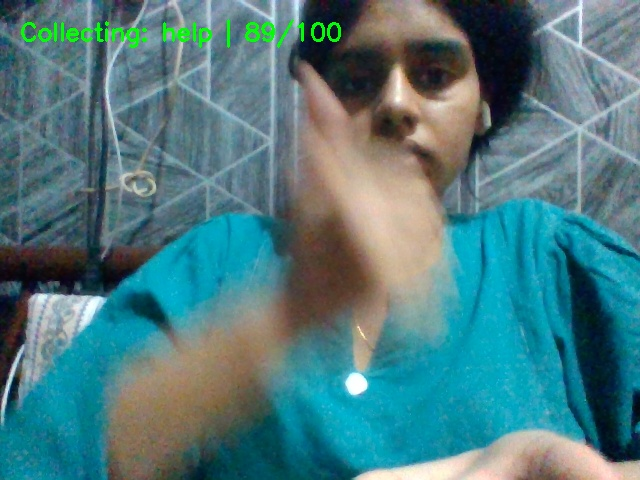help: (265, 48, 610, 480)
